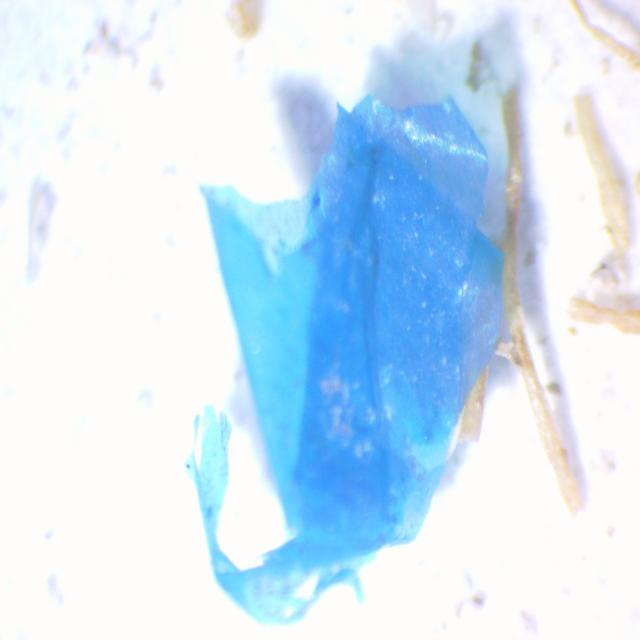microplastic: (192, 102, 504, 627)
